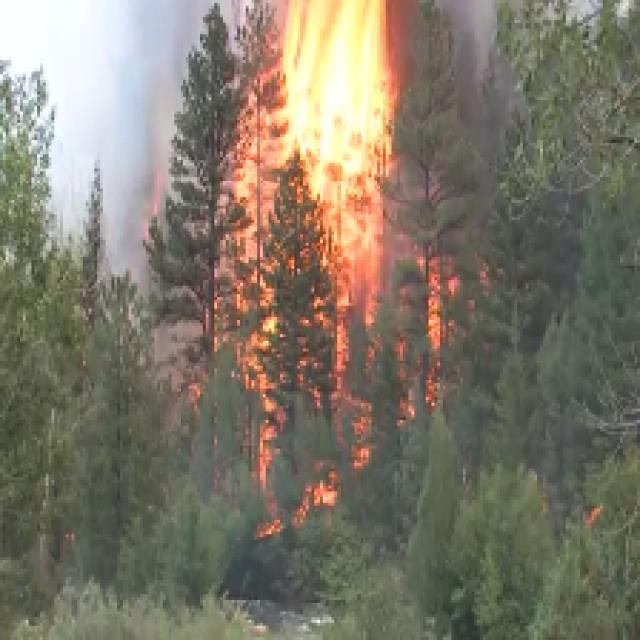Fire: (286, 4, 386, 230)
